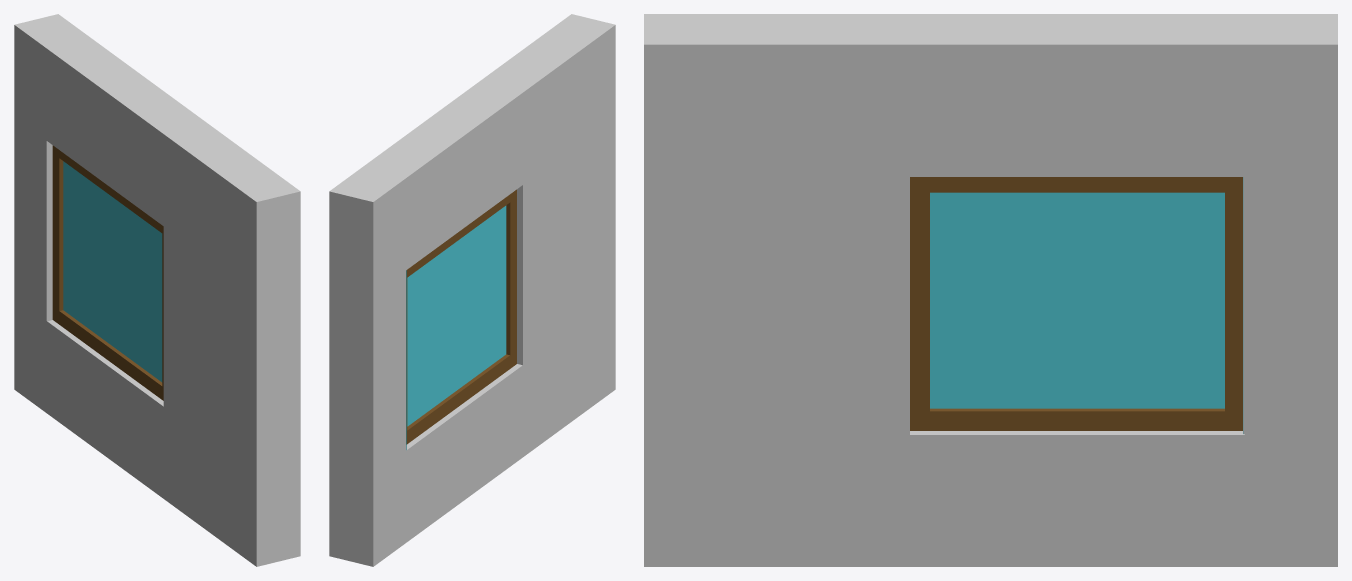
File: window.fbx
3 renders of one model, left to right at view 1: azimuth 30°, elevation 25°; view 2: azimuth 150°, elevation 25°; view 3: azimuth 270°, elevation 25°, orthographic. The views are drawn at different scales.
Parts seen in each view (by area): view 1: Cube; view 2: Cube; view 3: Cube.
Boxes of the visible parts, bbox=[...] form: Cube: bbox=[14, 14, 300, 566]; Cube: bbox=[329, 14, 615, 566]; Cube: bbox=[644, 14, 1337, 566].
Size of the model in its own units: 25.28 by 200 by 241.
